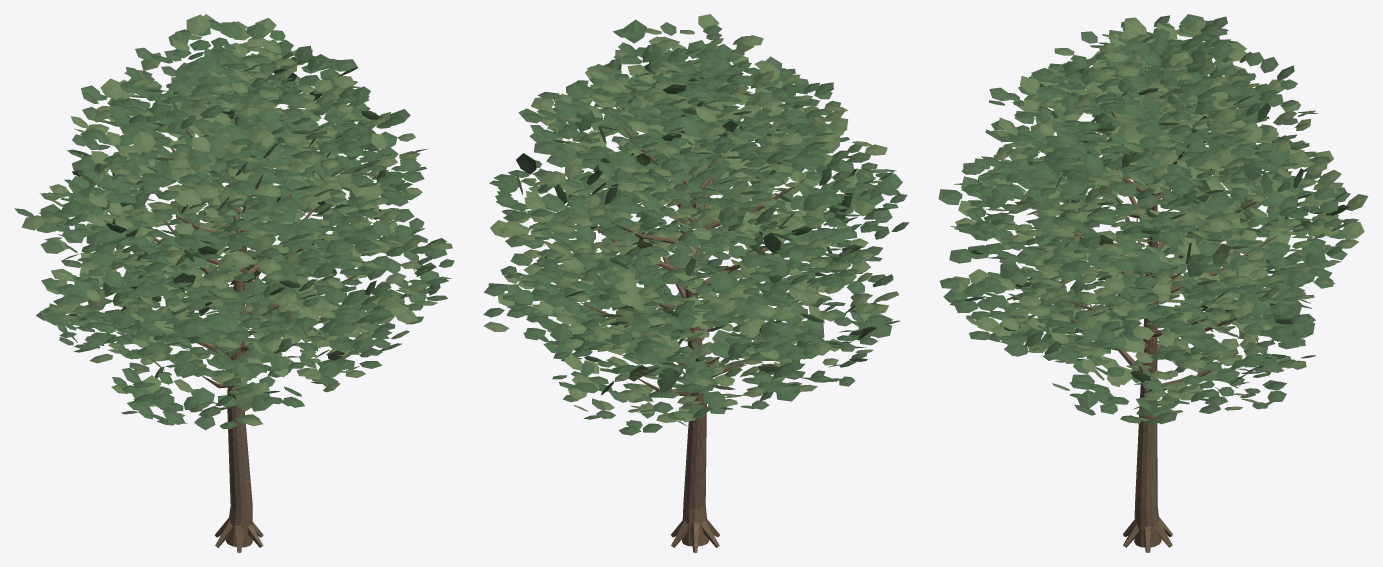
File: Tree3.fbx
3 views of the same model, side by side, from view 1: azimuth 30°, elevation 25°; view 2: azimuth 150°, elevation 25°; view 3: azimuth 270°, elevation 25° (orthographic). The views are drawn at different scales.
Parts seen in each view (by area): view 1: Tree3_LOD0; view 2: Tree3_LOD0; view 3: Tree3_LOD0.
Part boxes in pixels (<box>): Tree3_LOD0: <box>14,14,454,552</box>; Tree3_LOD0: <box>483,14,909,552</box>; Tree3_LOD0: <box>938,14,1368,552</box>.
Size of what is drawn, in the model's own units: 554 by 699 by 530.
Materials: 1 (1 with a texture image).
